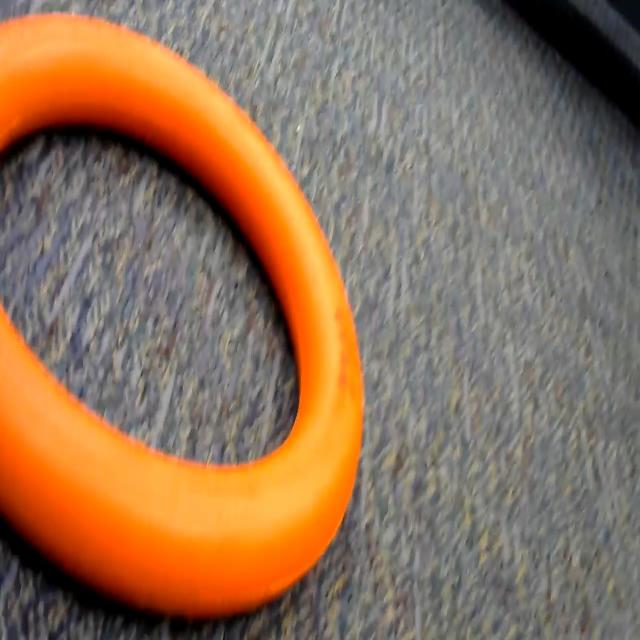note: (0, 4, 381, 640)
